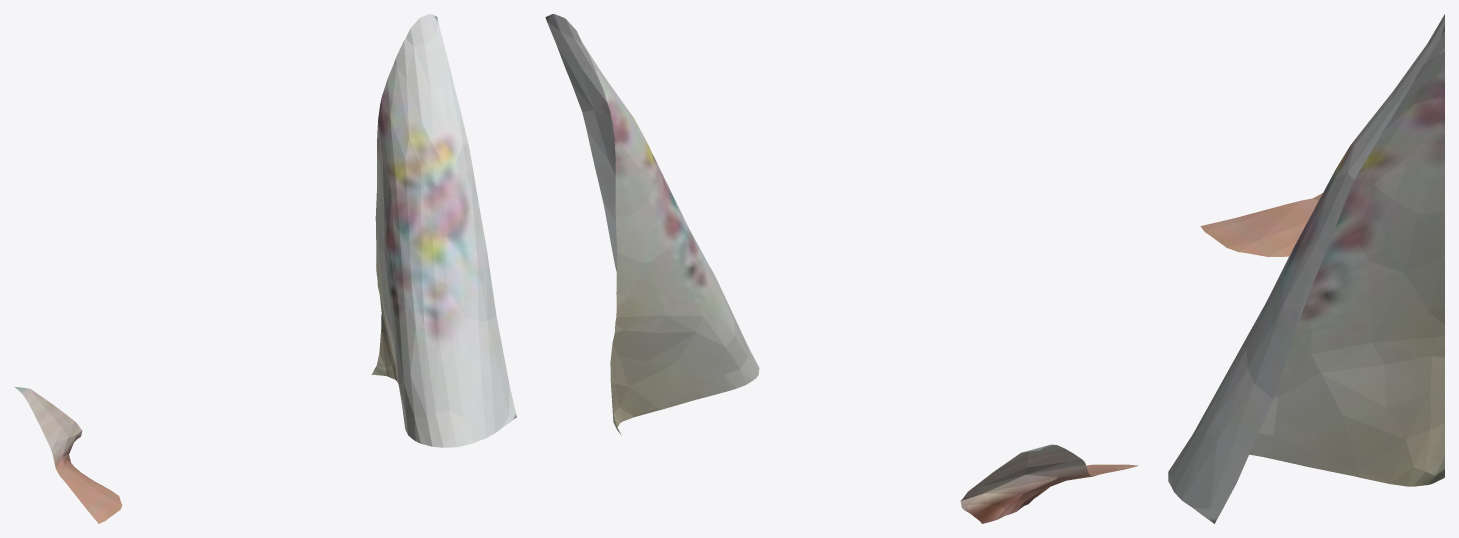
The picture shows the model from 3 angles, left to right: view 1: azimuth 30°, elevation 25°; view 2: azimuth 150°, elevation 25°; view 3: azimuth 270°, elevation 25°; orthographic projection. The views are drawn at different scales.
Parts seen in each view (by area): view 1: 091_W_Aya_100K_01; view 2: 091_W_Aya_100K_01; view 3: 091_W_Aya_100K_01.
Boxes of the visible parts, bbox=[...] form: 091_W_Aya_100K_01: bbox=[14, 14, 516, 523]; 091_W_Aya_100K_01: bbox=[545, 14, 1138, 523]; 091_W_Aya_100K_01: bbox=[1168, 14, 1444, 523].
Size of the model in its own units: 85.74 by 67.15 by 33.67.
Materials: 1 (1 with a texture image).
